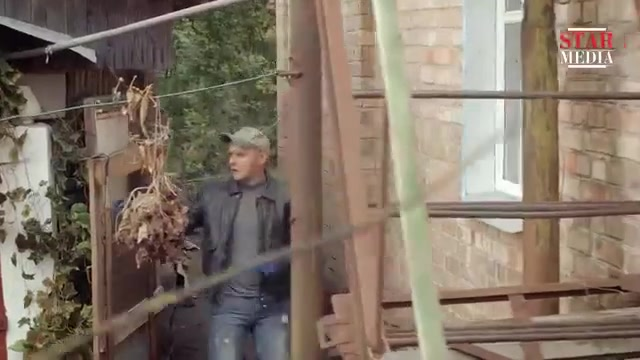Marcher: (175, 127, 291, 359)
